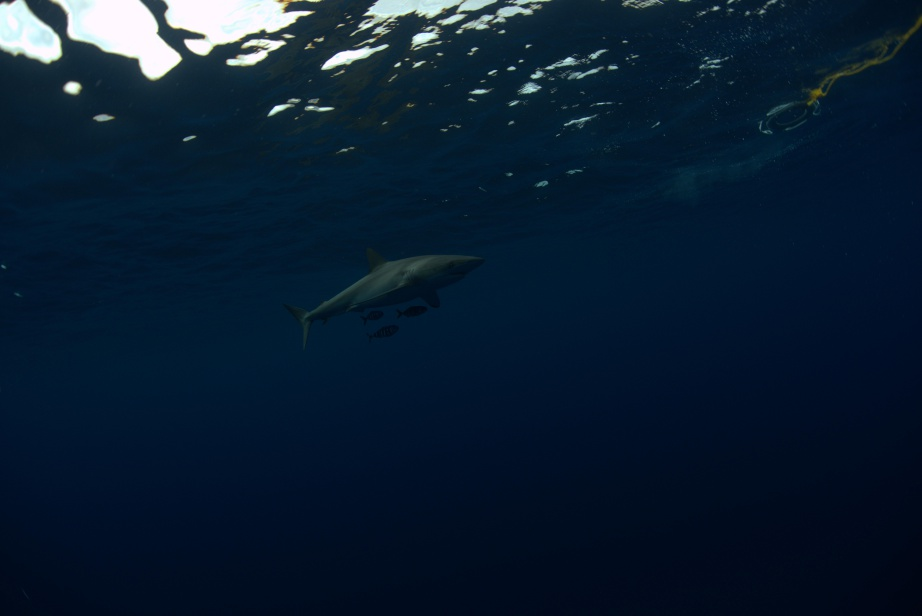Sedoso: (268, 233, 490, 354)
